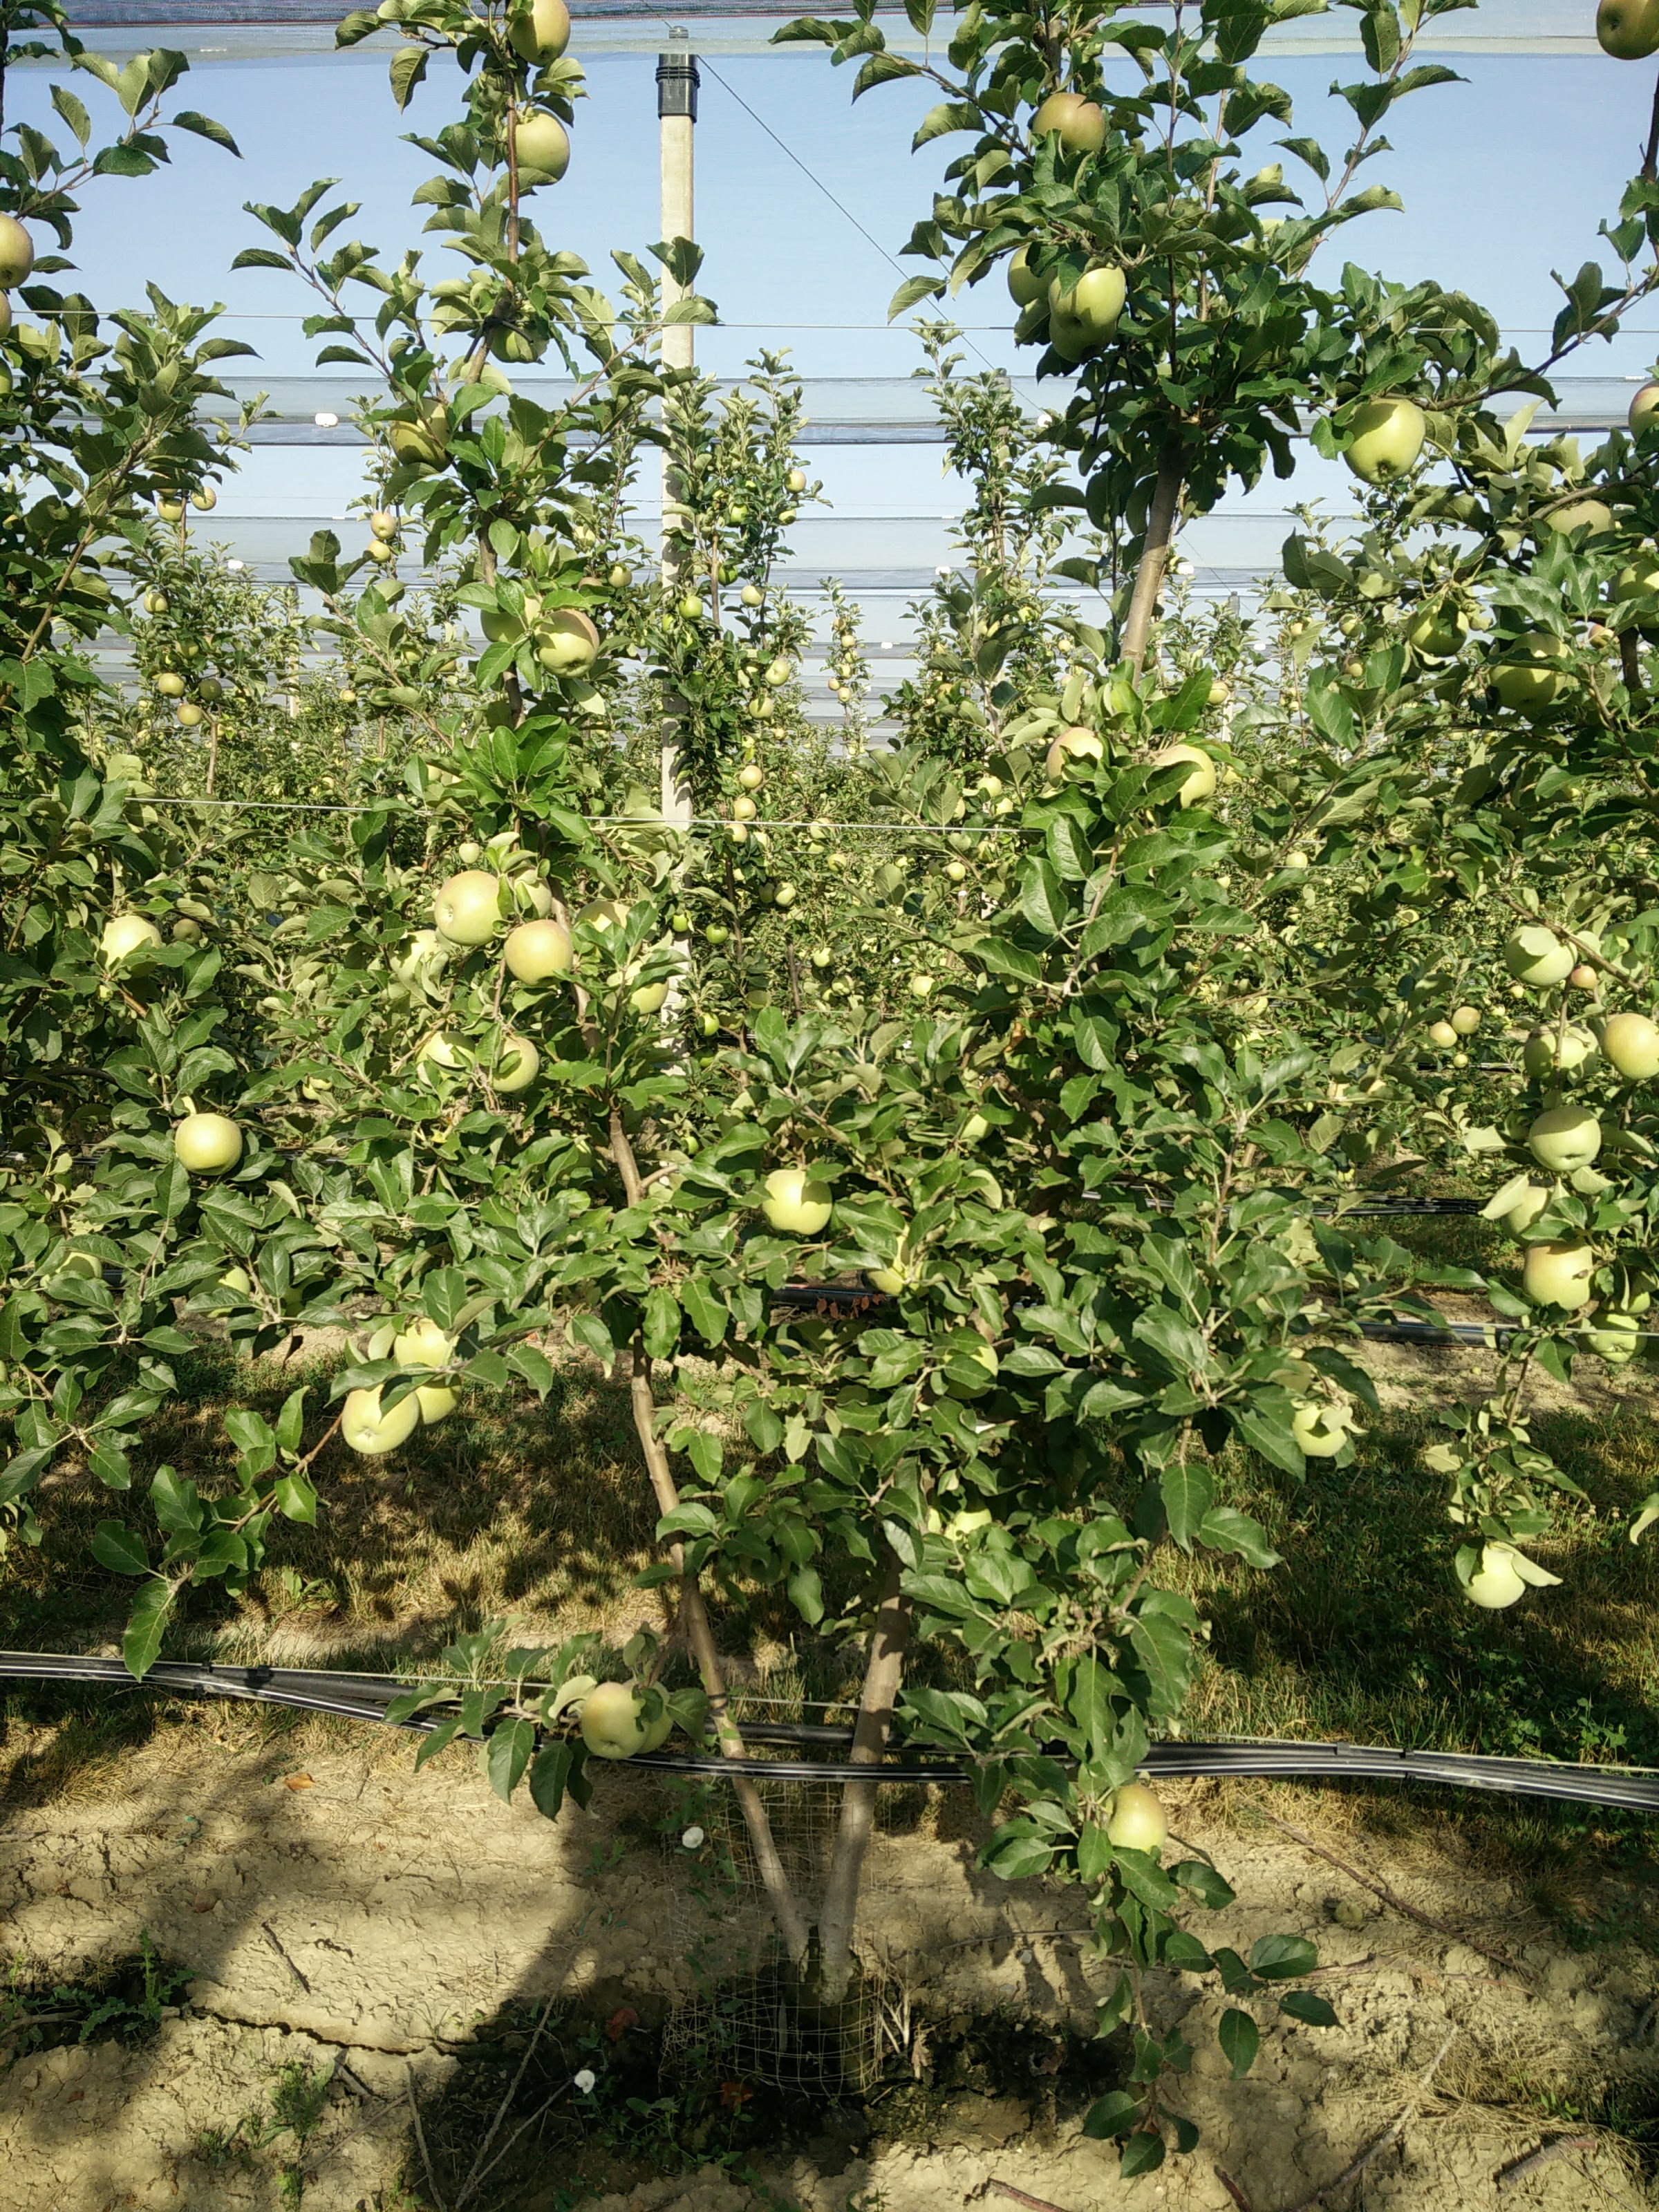apple: (1335, 391, 1425, 484), (1046, 251, 1128, 336), (1515, 1232, 1599, 1311), (1031, 88, 1114, 167), (575, 1676, 650, 1758), (498, 105, 574, 182), (497, 921, 573, 994), (340, 1380, 416, 1455), (435, 871, 508, 946), (1530, 1102, 1602, 1179), (1504, 915, 1577, 987), (756, 1168, 833, 1235), (171, 1114, 241, 1179), (1463, 1540, 1528, 1607), (511, 1, 574, 71), (1595, 1011, 1659, 1080), (1599, 1, 1659, 60)
